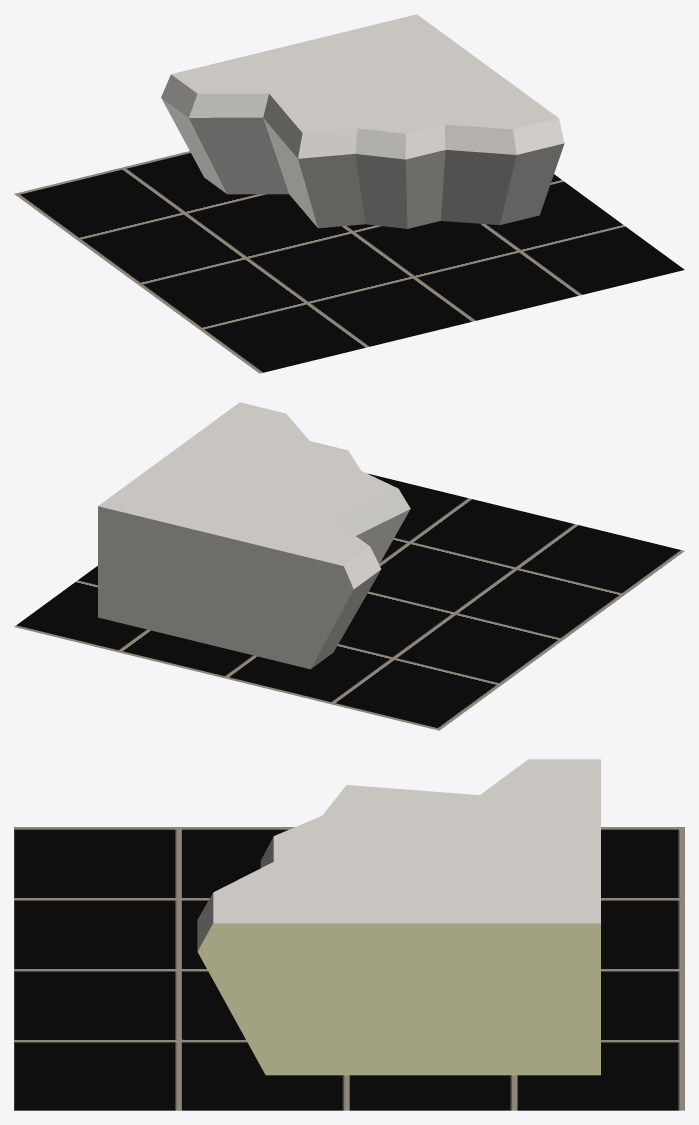
Rendered from Cracked_Curve_Outer_3x3_2_Top.glb.
The picture shows the model from 3 angles, top to bottom: view 1: azimuth 30°, elevation 25°; view 2: azimuth 150°, elevation 25°; view 3: azimuth 270°, elevation 25°; orthographic projection. The views are drawn at different scales.
Parts seen in each view (by area): view 1: Floor, Cracked_Curve_Outer_3x3_2_Top; view 2: Floor, Cracked_Curve_Outer_3x3_2_Top; view 3: Cracked_Curve_Outer_3x3_2_Top, Floor.
Part boxes in pixels (bbox=[...]): Floor: bbox=[14, 151, 684, 373]; Cracked_Curve_Outer_3x3_2_Top: bbox=[161, 14, 564, 228]; Floor: bbox=[14, 473, 684, 730]; Cracked_Curve_Outer_3x3_2_Top: bbox=[98, 402, 410, 669]; Cracked_Curve_Outer_3x3_2_Top: bbox=[197, 759, 600, 1075]; Floor: bbox=[14, 827, 684, 1110].
Size of the model in its own units: 400 by 100 by 400.
3 materials, 1 textured.
